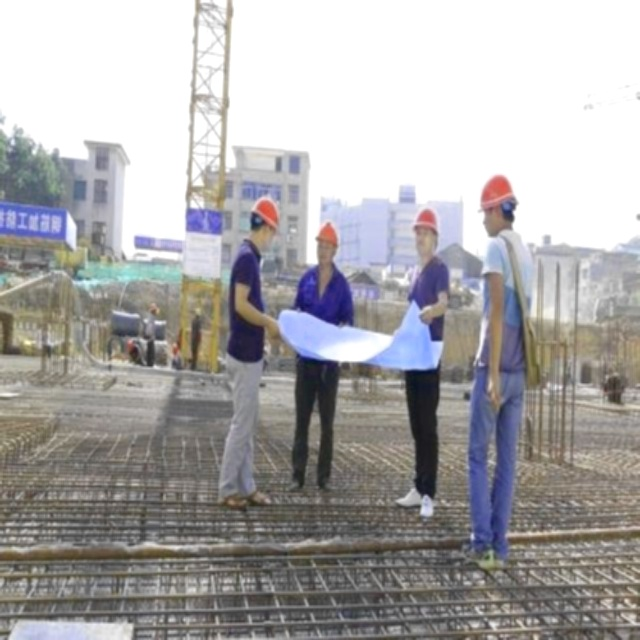Con_Casco: (312, 222, 342, 266)
